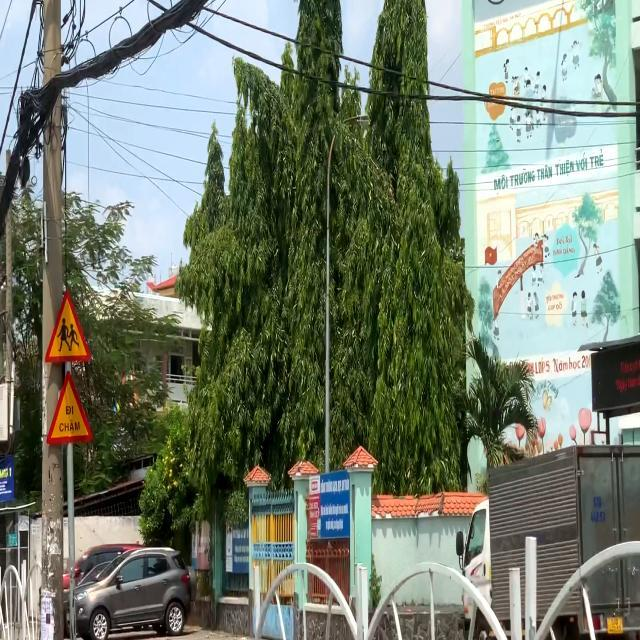W-225: (48, 288, 90, 363)
W-245a: (43, 372, 94, 446)
